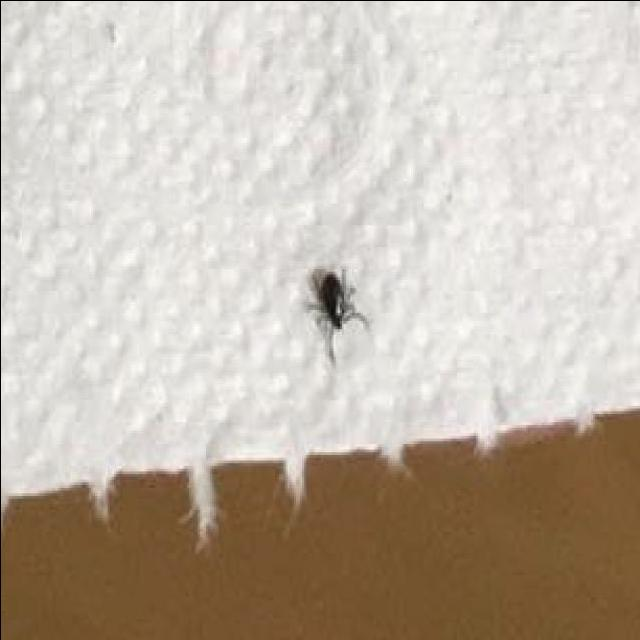Ixodes Ricinus-M: (301, 265, 372, 364)
